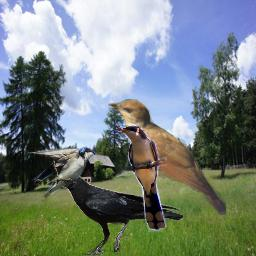Crow: (46, 172, 183, 255)
Cuckoo: (108, 99, 226, 215), (114, 125, 167, 232)
Swallow: (27, 146, 97, 199)
